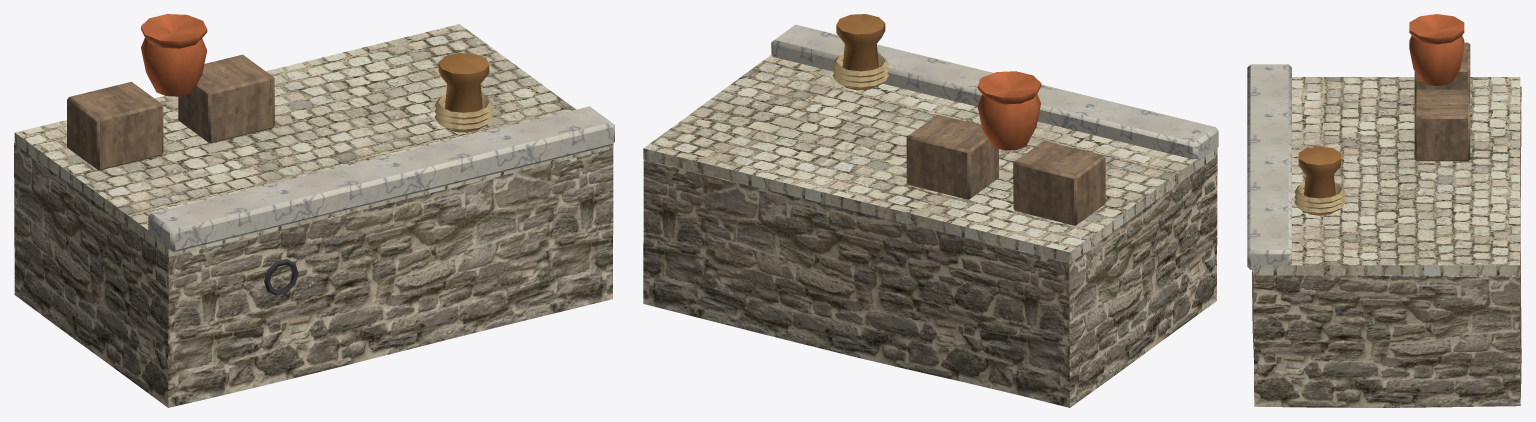
Rendered from water_quay.glb.
3 renders of one model, left to right at view 1: azimuth 30°, elevation 25°; view 2: azimuth 150°, elevation 25°; view 3: azimuth 270°, elevation 25°, orthographic. The views are drawn at different scales.
Visible parts, largest first — view 1: stone, paving, step, wood, terracotta, bronze, rope, iron; view 2: stone, paving, step, wood, terracotta, bronze, rope; view 3: paving, stone, step, wood, terracotta, bronze, rope.
Part boxes in pixels (left/top/right/bottom): stone: left=14, top=143, right=613, bottom=407; paving: left=14, top=24, right=613, bottom=256; step: left=148, top=106, right=614, bottom=252; wood: left=67, top=54, right=274, bottom=170; terracotta: left=141, top=14, right=207, bottom=96; bronze: left=438, top=53, right=489, bottom=132; rope: left=434, top=95, right=493, bottom=131; iron: left=264, top=259, right=298, bottom=295; stone: left=643, top=155, right=1217, bottom=407; paving: left=643, top=55, right=1217, bottom=263; step: left=771, top=24, right=1218, bottom=161; wood: left=906, top=114, right=1105, bottom=225; terracotta: left=977, top=71, right=1041, bottom=150; bronze: left=836, top=14, right=885, bottom=90; rope: left=832, top=54, right=888, bottom=89; paving: left=1253, top=77, right=1520, bottom=275; stone: left=1252, top=86, right=1521, bottom=407; step: left=1247, top=64, right=1291, bottom=269; wood: left=1414, top=42, right=1470, bottom=161; terracotta: left=1409, top=14, right=1464, bottom=85; bronze: left=1298, top=146, right=1340, bottom=215; rope: left=1294, top=182, right=1345, bottom=214.
Size of the model in its own units: 4 by 2.38 by 2.46.
Materials: 8 (8 with a texture image).
